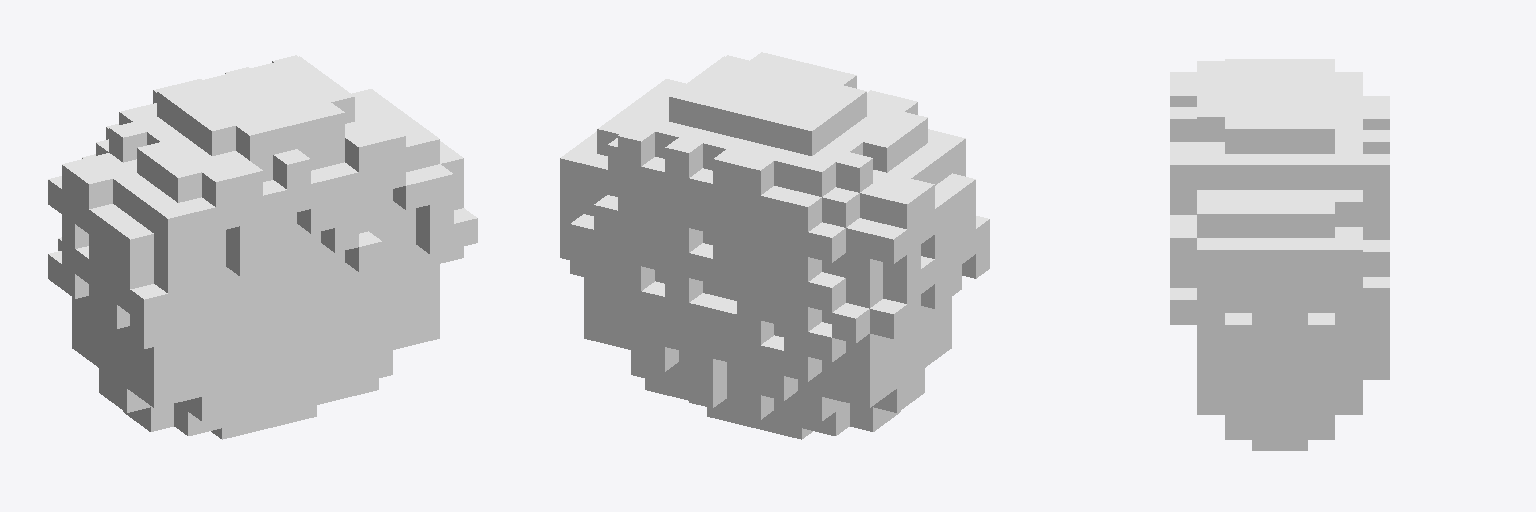
File: LowBoy-7.obj
3 renders of one model, left to right at view 1: azimuth 30°, elevation 25°; view 2: azimuth 150°, elevation 25°; view 3: azimuth 270°, elevation 25°, orthographic.
Parts seen in each view (by area): view 1: LowBoy-7; view 2: LowBoy-7; view 3: LowBoy-7.
Part boxes in pixels (left/top/right/bottom): LowBoy-7: left=48, top=55, right=477, bottom=439; LowBoy-7: left=560, top=52, right=989, bottom=439; LowBoy-7: left=1170, top=59, right=1389, bottom=450.
Bounding box in the file's own units: 14 × 13 × 8.